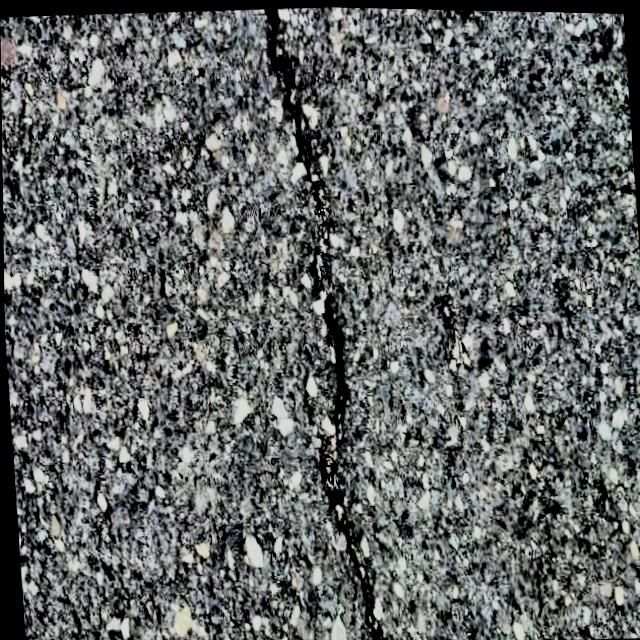cracks: (264, 8, 383, 640)
